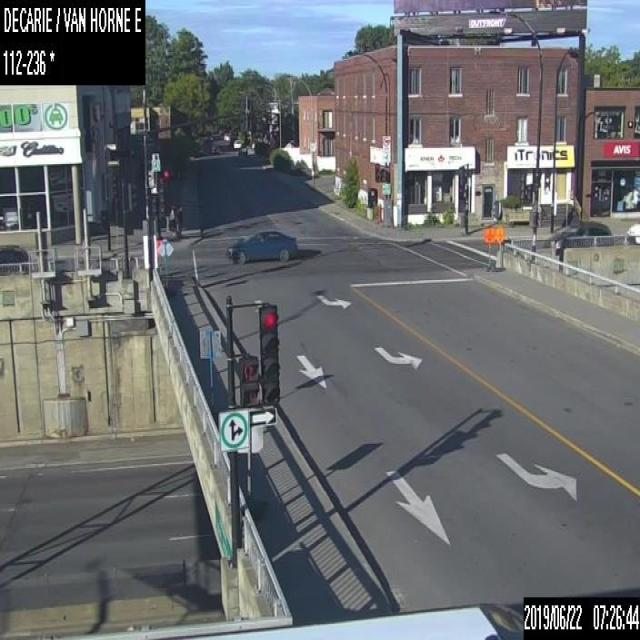construction: (198, 328, 220, 423), (244, 426, 266, 514), (156, 236, 174, 298), (493, 223, 505, 270), (484, 226, 493, 270)
pedestrian: (172, 198, 182, 234), (164, 198, 173, 230)
vehicle: (192, 604, 522, 639), (225, 228, 298, 263), (543, 219, 612, 251), (0, 242, 28, 274), (625, 220, 639, 245), (232, 138, 241, 148), (211, 144, 218, 153)
